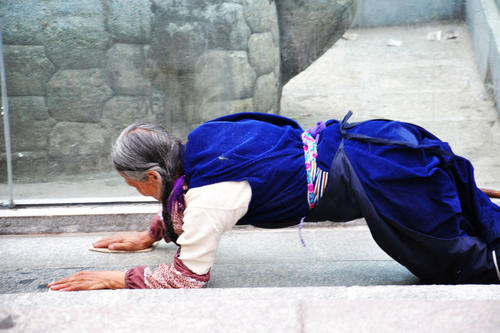fall: (49, 113, 500, 289)
